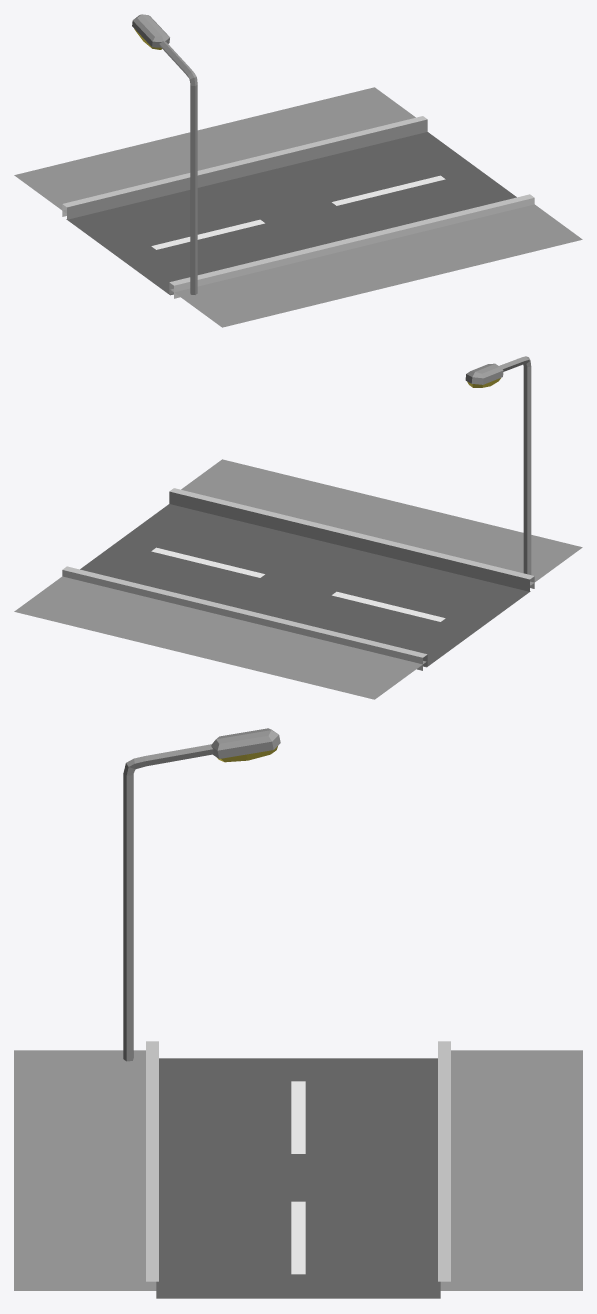
File: street-straight.glb
3 renders of one model, top to bottom at view 1: azimuth 30°, elevation 25°; view 2: azimuth 150°, elevation 25°; view 3: azimuth 270°, elevation 25°, orthographic. The views are drawn at different scales.
Parts seen in each view (by area): view 1: city_private_houses.001; view 2: city_private_houses.001; view 3: city_private_houses.001.
Boxes of the visible parts, x1=… form: city_private_houses.001: x1=14, y1=14, x2=582, y2=327; city_private_houses.001: x1=14, y1=356, x2=582, y2=699; city_private_houses.001: x1=14, y1=728, x2=582, y2=1298.
Bounding box in the file's own units: 8 × 5.25 × 8.
1 material, 1 textured.
